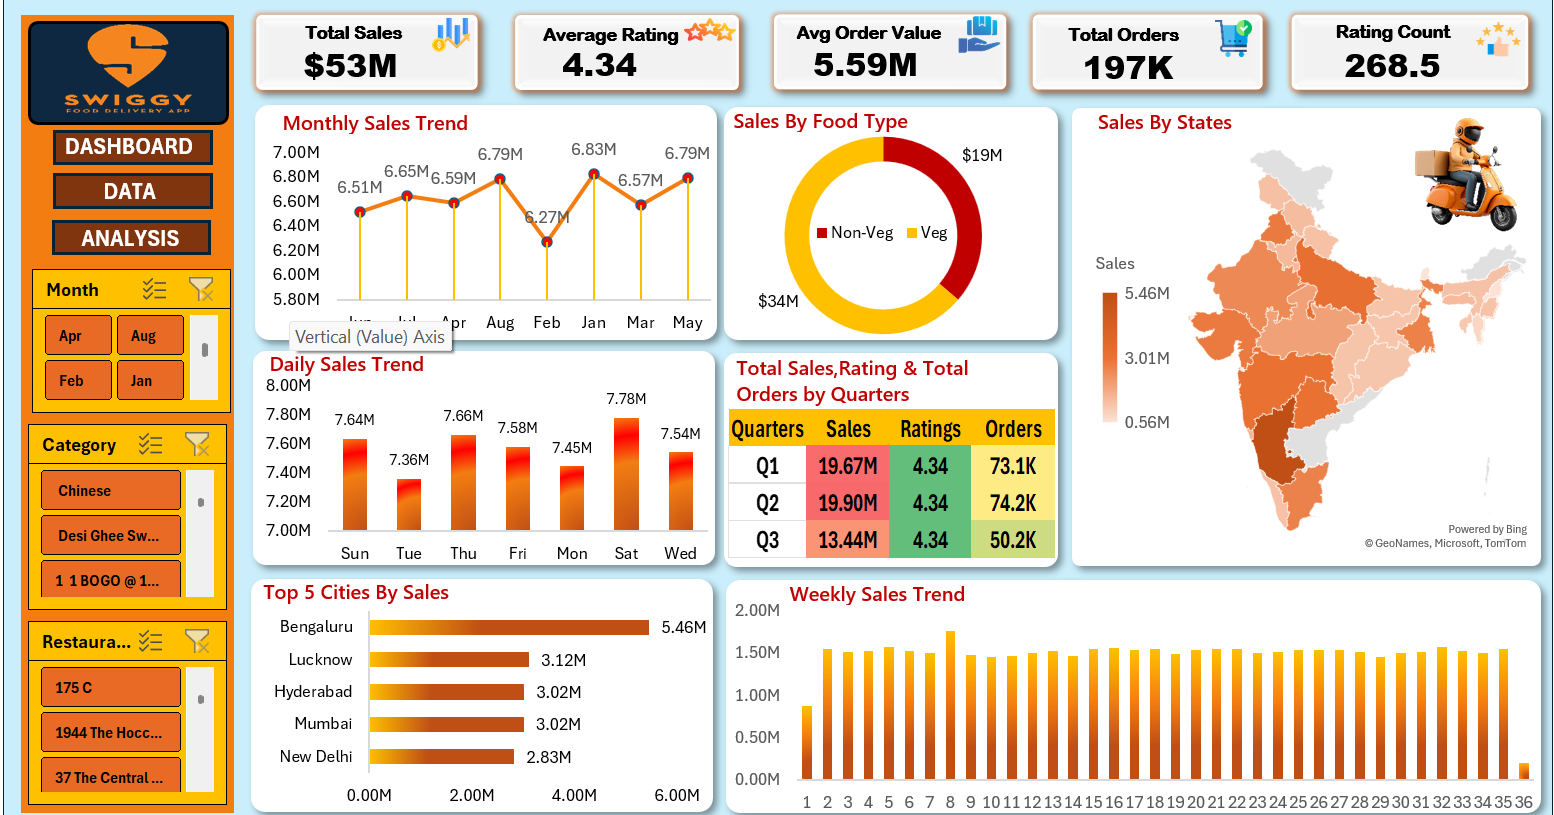

This screenshot's page, from the dashboard's own definition file:
{"tool":"powerbi","page":{"name":"Page 1","canvas":[1350,720],"ordinal":0},"visuals":[{"type":"shape","box":[13.1,29.1,206.7,679.7],"z":0},{"type":"cardVisual","fields":{"Data":["fact_orders.Total Sales","fact_orders.Total Orders","fact_orders.Avg Order Value","fact_orders.Avg Rating","fact_orders.Rating Count"]},"box":[219.8,29.1,1129.5,123.7],"z":1000},{"type":"image","box":[372.6,49.5,53.9,34.9],"z":2000},{"type":"image","box":[602.6,52.4,53.9,34.9],"z":3000},{"type":"image","box":[825.3,52.4,53.9,34.9],"z":4000},{"type":"image","box":[1041.9,46.4,56.3,38.1],"z":5000},{"type":"image","box":[1268.9,48,62.9,41.4],"z":6000},{"type":"shape","box":[230.3,137.5,621.2,207.1],"z":7000},{"type":"shape","box":[851.4,137.5,493.6,207.1],"z":8000},{"type":"shape","box":[230,345,445.4,202.3],"z":9000},{"type":"shape","box":[675.4,345,353.7,202.3],"z":10000},{"type":"shape","box":[230,547.3,799.1,173.2],"z":11000},{"type":"shape","box":[1027.6,345,315.9,372.6],"z":12000},{"type":"areaChart","title":"Monthly Trend","fields":{"Y":["fact_orders.Total Sales"],"Category":["dim_date.Month"]},"box":[240.2,152.4,599.6,178.9],"z":13000},{"type":"donutChart","fields":{"Y":["fact_orders.Total Sales"],"Category":["dim_dish.Food Type"]},"box":[863,152.4,468.8,178.9],"z":14000},{"type":"barChart","title":"Top 5 Restaurant By Sales","fields":{"Y":["fact_orders.Total Sales"],"Category":["dim_restaurant.restaurant_name"]},"box":[688.5,359.5,329,187.8],"z":15000},{"type":"columnChart","fields":{"Category":["dim_date.day"],"Y":["fact_orders.Total Sales"]},"box":[240.9,358.8,435.2,187.7],"z":16000},{"type":"barChart","fields":{"Category":["dim_location.state"],"Y":["fact_orders.Total Sales"]},"box":[1038.6,359.5,293.2,349.5],"z":17000},{"type":"columnChart","fields":{"Y":["fact_orders.Total Sales"],"Category":["dim_dish.dish_name"]},"box":[240.2,558.2,778.5,150.7],"z":18000},{"type":"image","box":[23.2,54.7,183.9,64.6],"z":19000},{"type":"slicer","fields":{"Values":["dim_location.city"]},"box":[23.2,169,183.9,94.4],"z":20000},{"type":"slicer","fields":{"Values":["dim_date.Quarter"]},"box":[23.2,284.9,183.9,94.4],"z":20001},{"type":"slicer","fields":{"Values":["dim_dish.Food Type"]},"box":[23.2,404.2,183.9,94.4],"z":20002},{"type":"slicer","fields":{"Values":["dim_location.state"]},"box":[23.2,531.7,183.9,94.4],"z":20003},{"type":"textbox","box":[389.3,0,750.4,54.7],"z":20004}]}

Visuals, with their boxes in screenshot pixels (x1, y1, x2, y2), scaled from the page's 1350x720 canvas onto the 1554x815 screenshot:
shape: <bbox>15, 33, 253, 802</bbox>
cardVisual - fact_orders.Total Sales x fact_orders.Total Orders: <bbox>253, 33, 1553, 173</bbox>
image: <bbox>429, 56, 491, 96</bbox>
image: <bbox>694, 59, 756, 99</bbox>
image: <bbox>950, 59, 1012, 99</bbox>
image: <bbox>1199, 53, 1264, 96</bbox>
image: <bbox>1461, 54, 1533, 101</bbox>
shape: <bbox>265, 156, 980, 390</bbox>
shape: <bbox>980, 156, 1548, 390</bbox>
shape: <bbox>265, 391, 777, 620</bbox>
shape: <bbox>777, 391, 1185, 620</bbox>
shape: <bbox>265, 620, 1185, 814</bbox>
shape: <bbox>1183, 391, 1547, 812</bbox>
"Monthly Trend" areaChart: <bbox>276, 173, 967, 375</bbox>
donutChart - fact_orders.Total Sales x dim_dish.Food Type: <bbox>993, 173, 1533, 375</bbox>
"Top 5 Restaurant By Sales" barChart: <bbox>793, 407, 1171, 620</bbox>
columnChart - dim_date.day x fact_orders.Total Sales: <bbox>277, 406, 778, 619</bbox>
barChart - dim_location.state x fact_orders.Total Sales: <bbox>1196, 407, 1533, 803</bbox>
columnChart - fact_orders.Total Sales x dim_dish.dish_name: <bbox>276, 632, 1173, 802</bbox>
image: <bbox>27, 62, 238, 135</bbox>
slicer - dim_location.city: <bbox>27, 191, 238, 298</bbox>
slicer - dim_date.Quarter: <bbox>27, 322, 238, 429</bbox>
slicer - dim_dish.Food Type: <bbox>27, 458, 238, 564</bbox>
slicer - dim_location.state: <bbox>27, 602, 238, 709</bbox>
textbox: <bbox>448, 0, 1312, 62</bbox>
